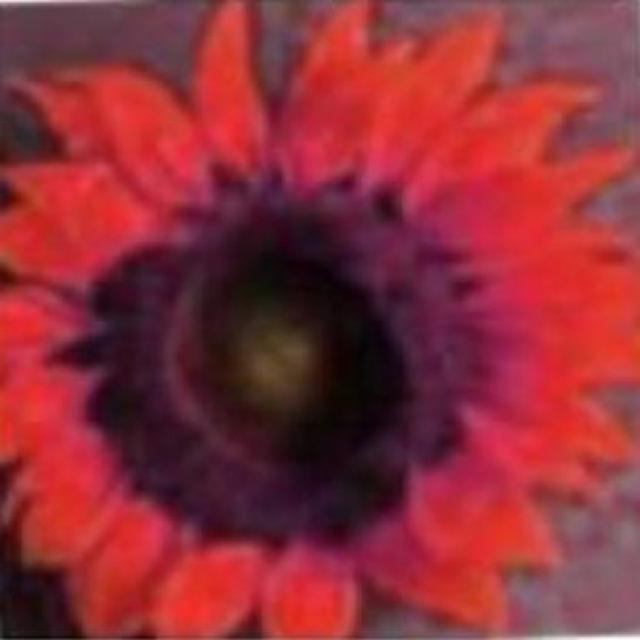sunflower: (11, 7, 634, 640)
